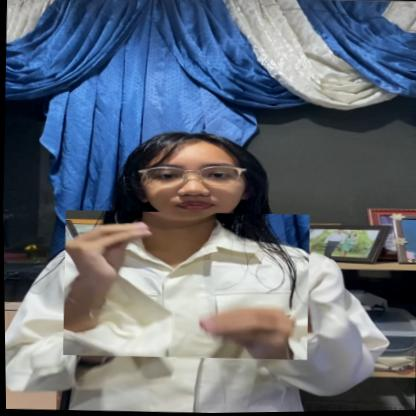Fix: (60, 207, 311, 363)
